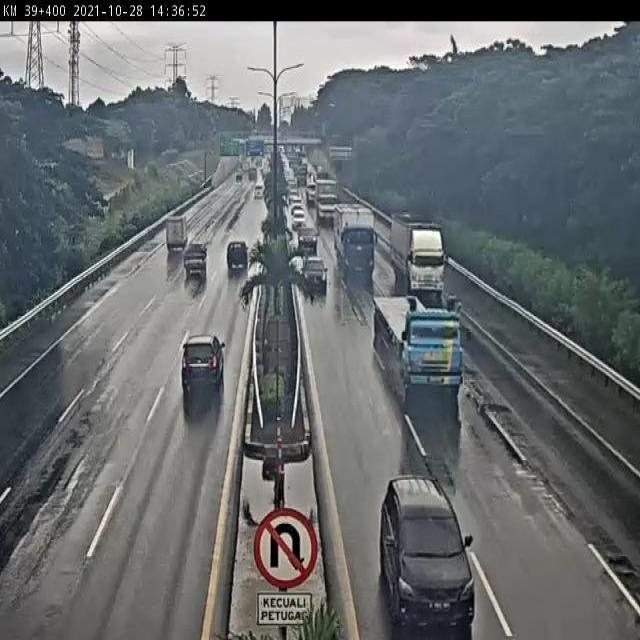big truck: (381, 303, 461, 388), (391, 213, 443, 287), (343, 209, 370, 271)
car: (389, 487, 460, 605), (148, 331, 237, 413), (223, 242, 241, 282), (305, 260, 324, 295), (298, 218, 316, 242)
small truck: (184, 249, 212, 291), (159, 225, 181, 263)
